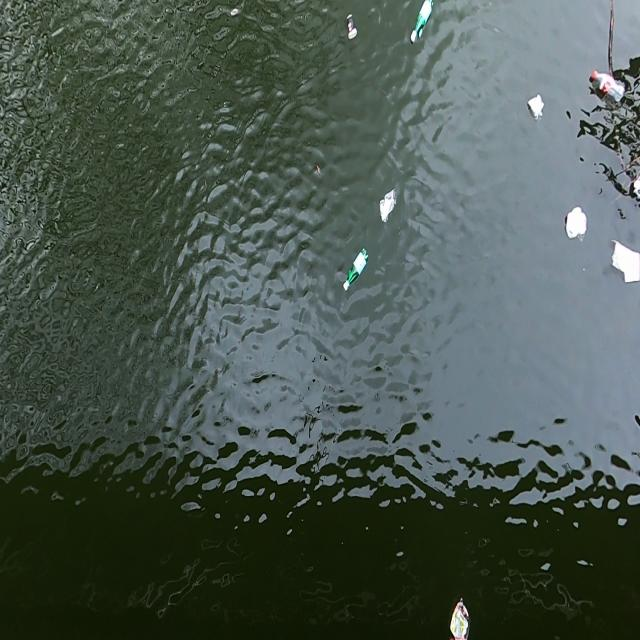Bouteille plastique: (586, 67, 626, 107), (340, 246, 370, 295), (406, 0, 438, 44)
Non plastique: (342, 12, 360, 42)
